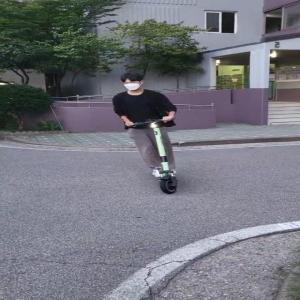with scooter: (112, 71, 178, 194)
